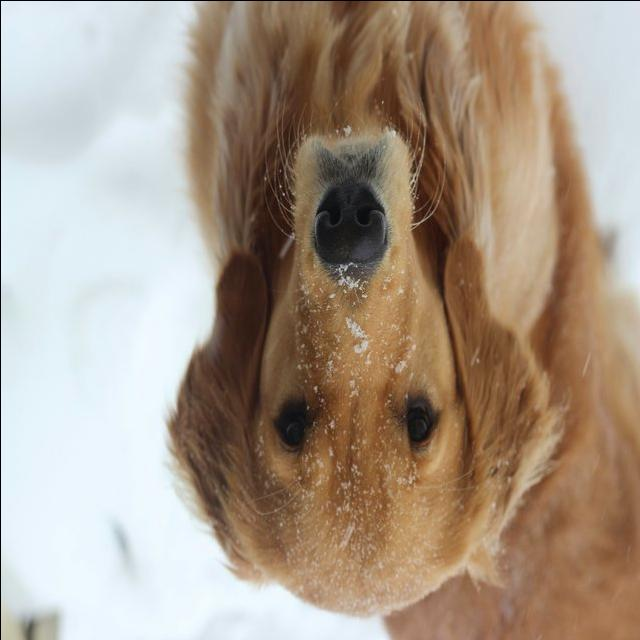retriever: (163, 2, 640, 639)
